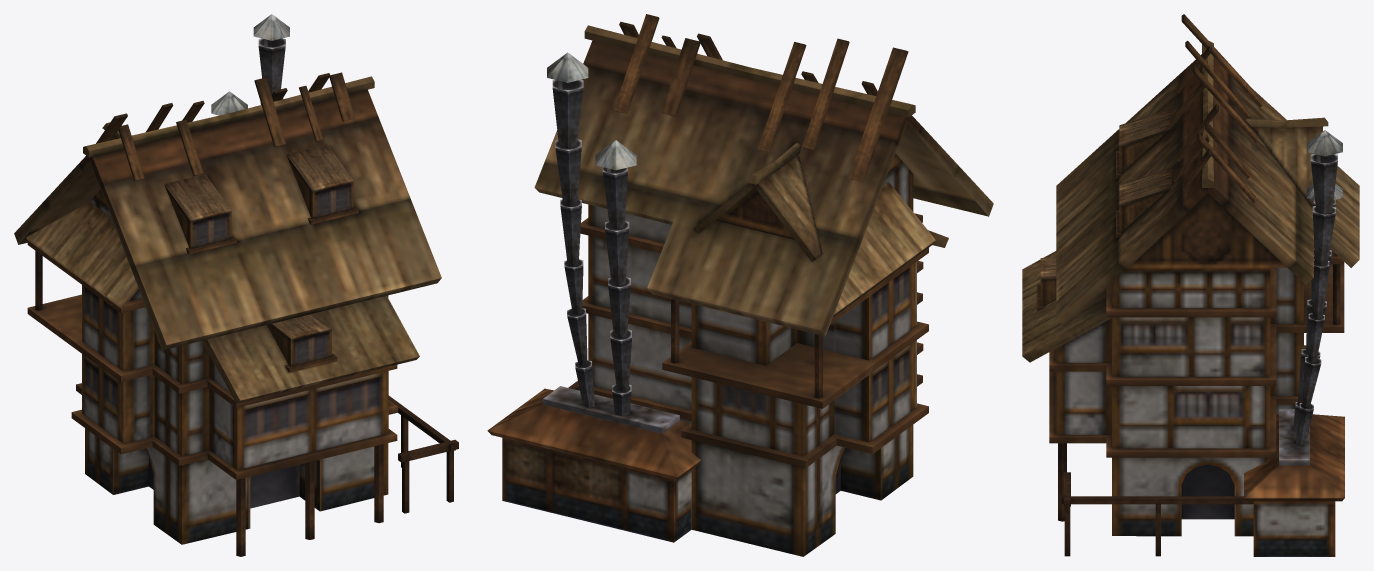
Rendered from Temple_002.FBX.
3 views of the same model, side by side, from view 1: azimuth 30°, elevation 25°; view 2: azimuth 150°, elevation 25°; view 3: azimuth 270°, elevation 25° (orthographic). The views are drawn at different scales.
Visible parts, largest first — view 1: Temple_002; view 2: Temple_002; view 3: Temple_002.
Part boxes in pixels (box(x1,y1,x2,y2)): Temple_002: box(14, 14, 458, 556); Temple_002: box(487, 14, 993, 556); Temple_002: box(1022, 14, 1359, 556).
Bounding box in the file's own units: 631 × 809 × 607.
